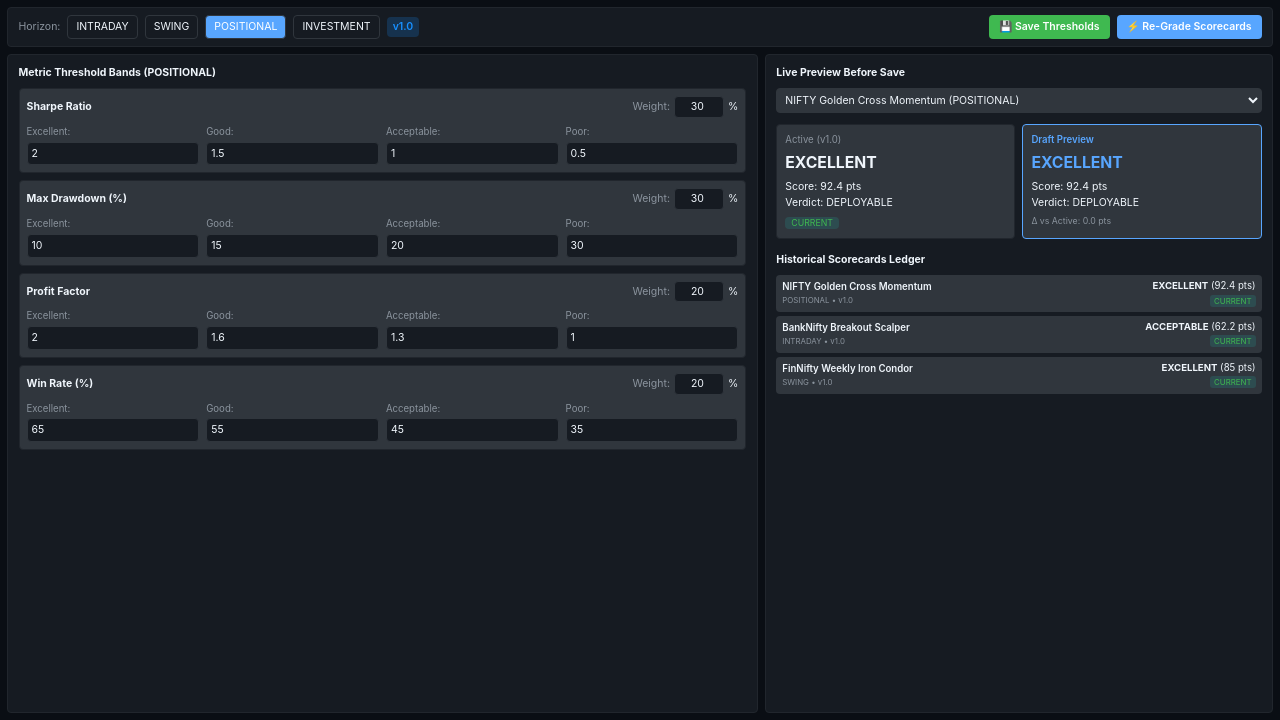
Test: GradingThresholdsWidget Component › saves valid threshold configuration, marks scorecards STALE, and explicitly re-grades
Expected: the text with test id "active-scorecard-status" reads "CURRENT", [791,218,833,228]
# Click Save
What coordinates should you click on to do the following:
click the button with test id "btn-save-thresholds"
I would click on:
 (1049, 27)
Its box is [989,15,1110,39].
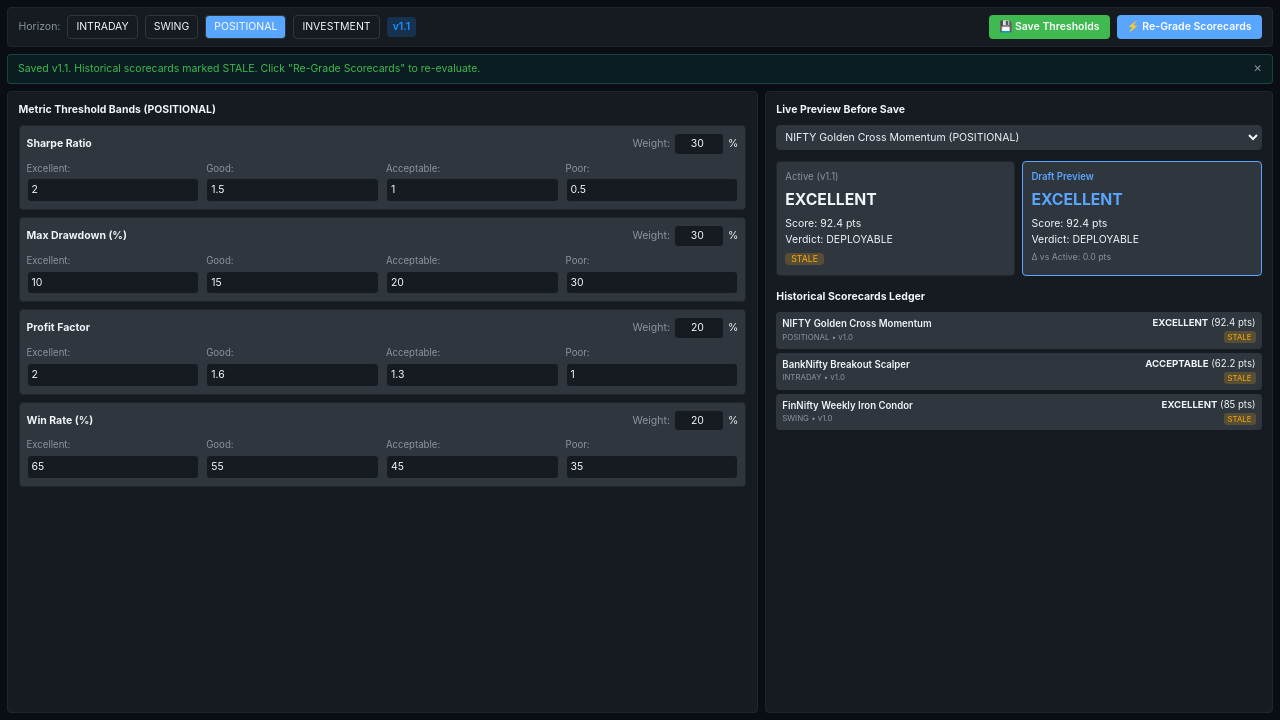
Expected: the text with test id "config-version-tag" reads "v1.1", [393,20,410,33]
Expected: the element with test id "notification-banner" shows "Historical scorecards marked STALE", [18,62,480,75]
Expected: the text with test id "active-scorecard-status" reads "STALE", [791,254,818,264]
# Click Re-grade
What coordinates should you click on to do the following:
click the button with test id "btn-regrade-scorecards"
I would click on:
 (1189, 27)
Its box is [1117,15,1262,39].
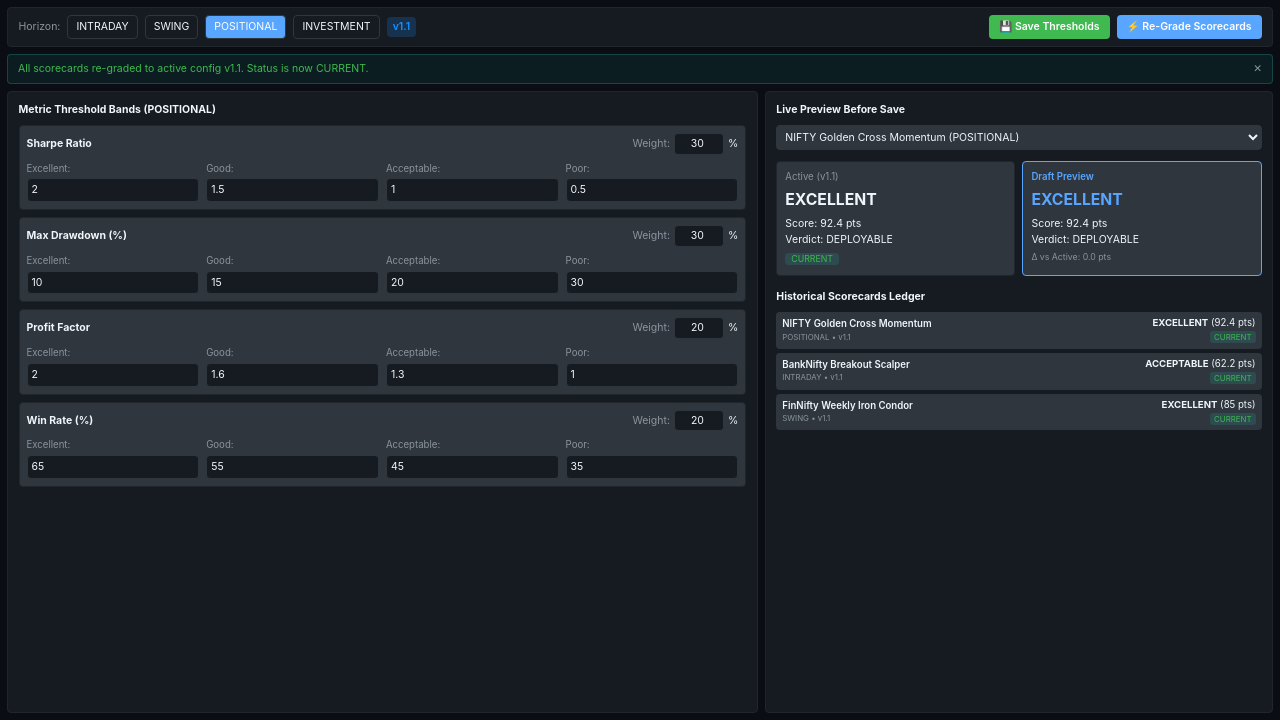
Expected: the text with test id "active-scorecard-status" reads "CURRENT", [791,254,833,264]
Expected: the element with test id "notification-banner" shows "All scorecards re-graded", [18,62,369,75]
